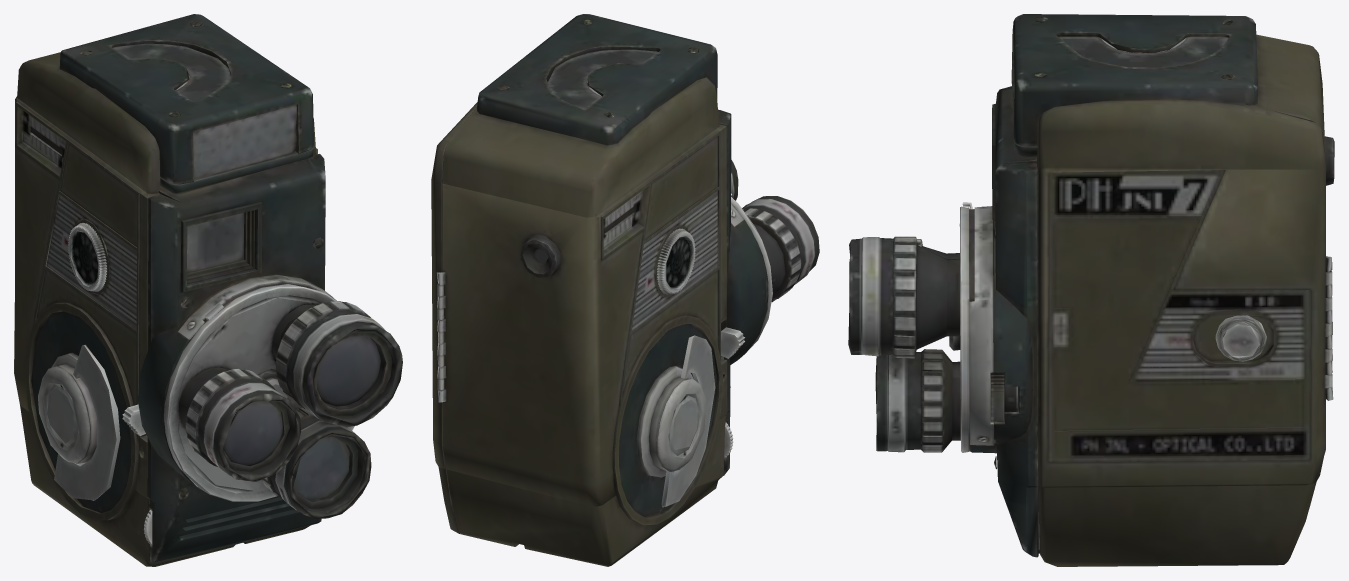
The model's file is vintage_video_camera.708fe41c.glb.
3 views of the same model, side by side, from view 1: azimuth 30°, elevation 25°; view 2: azimuth 150°, elevation 25°; view 3: azimuth 270°, elevation 25° (orthographic). The views are drawn at different scales.
Visible parts, largest first — view 1: vintage_video_camera; view 2: vintage_video_camera; view 3: vintage_video_camera.
Boxes of the visible parts, x1=… form: vintage_video_camera: x1=14, y1=14, x2=402, y2=566; vintage_video_camera: x1=431, y1=14, x2=819, y2=566; vintage_video_camera: x1=848, y1=14, x2=1334, y2=566.
Size of the model in its own units: 0.3868 by 0.7865 by 0.72.
Materials: 2 (2 with a texture image).
